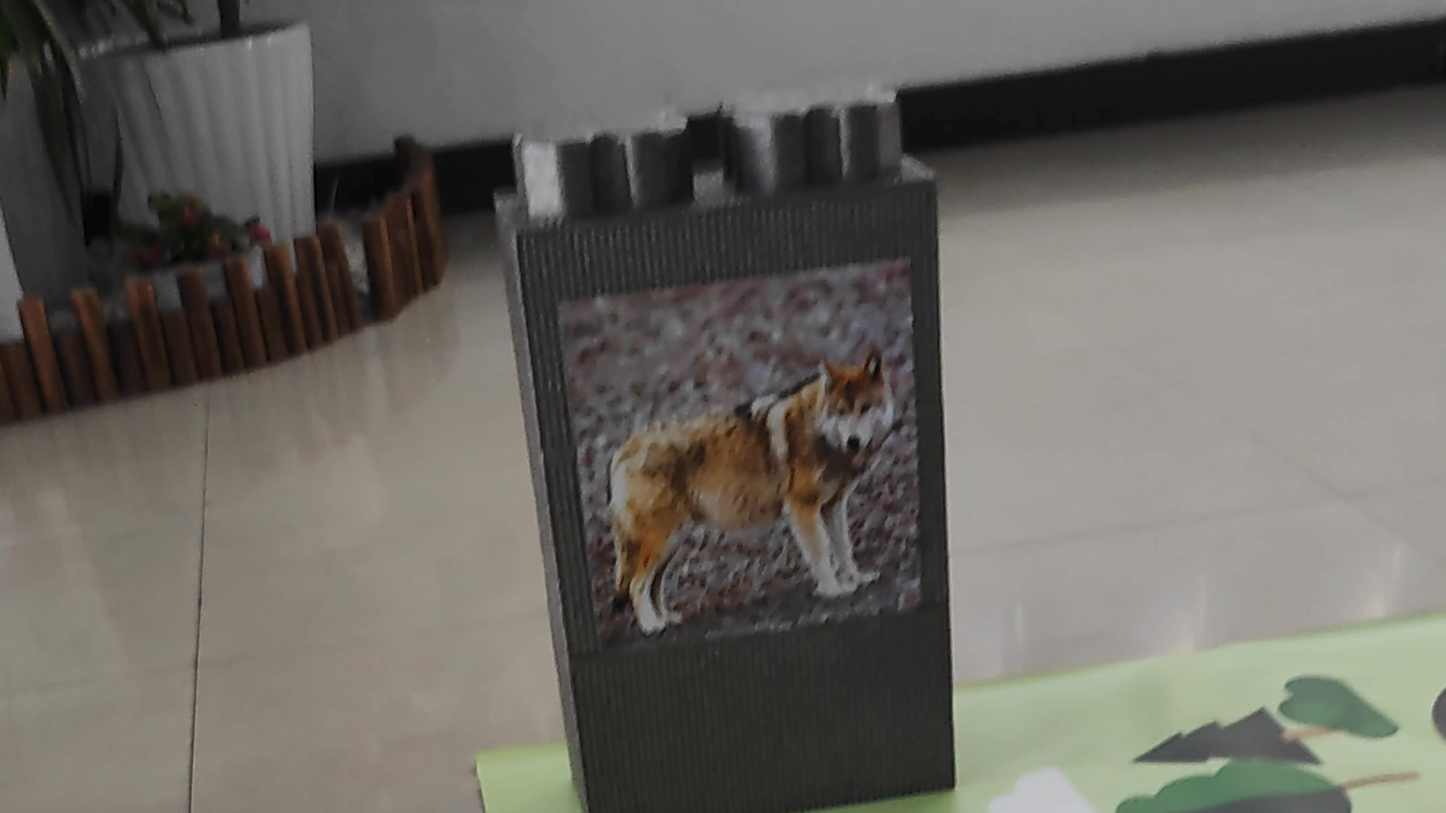wolf: (569, 340, 902, 648)
